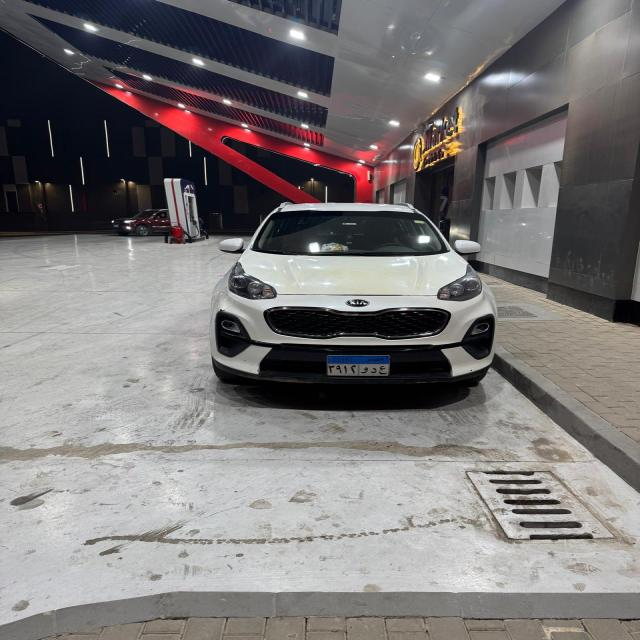car-plate: (328, 357, 388, 375)
